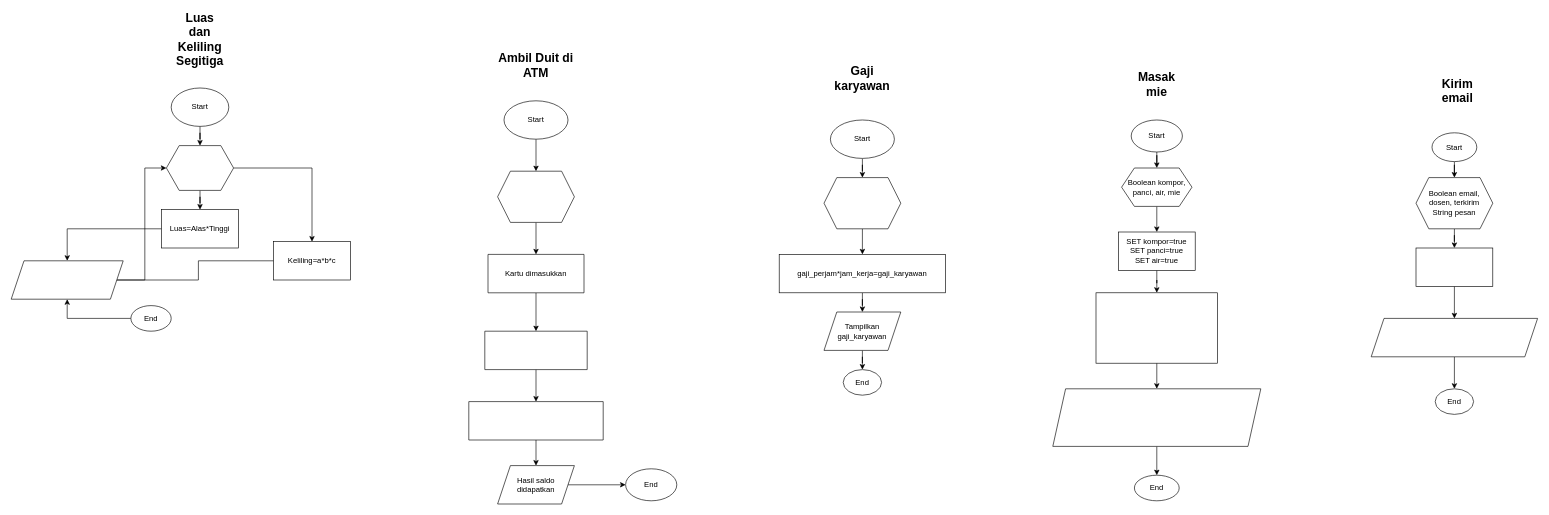
Some shapes in this 1549 by 515 pixel diagram are drawn without their labels. Here are the shapes that lost their labels. From the top down, the centre of each, then its label:
point 200,167: Int a, b, c, Alas, Tinggi
point 535,196: Kartu, PIN, Saldo
point 862,203: Int gaji_karyawan, gaji_perjam, jam_kerja
point 67,279: Tampilkan Luas=%d Tampilkan Keliling=%d
point 1454,266: SET email=true SET dosen=true
point 1156,327: if (air, panci, kompor === true) { SET mie=true } else { mie=false }
point 1454,337: if (email,dosen === true) { printf("$PESAN terkirim") }
point 535,350: Isi PIN dengan benar
point 535,420: Tarik jumlah saldo yang ada
point 1156,417: if mie=true { printf("Mie siap dimakan") }
